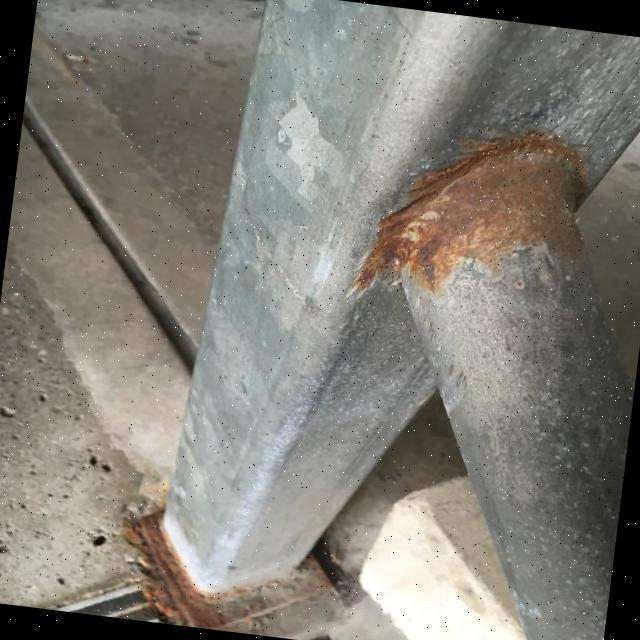Corrosion: (342, 107, 598, 326), (101, 496, 247, 628)
